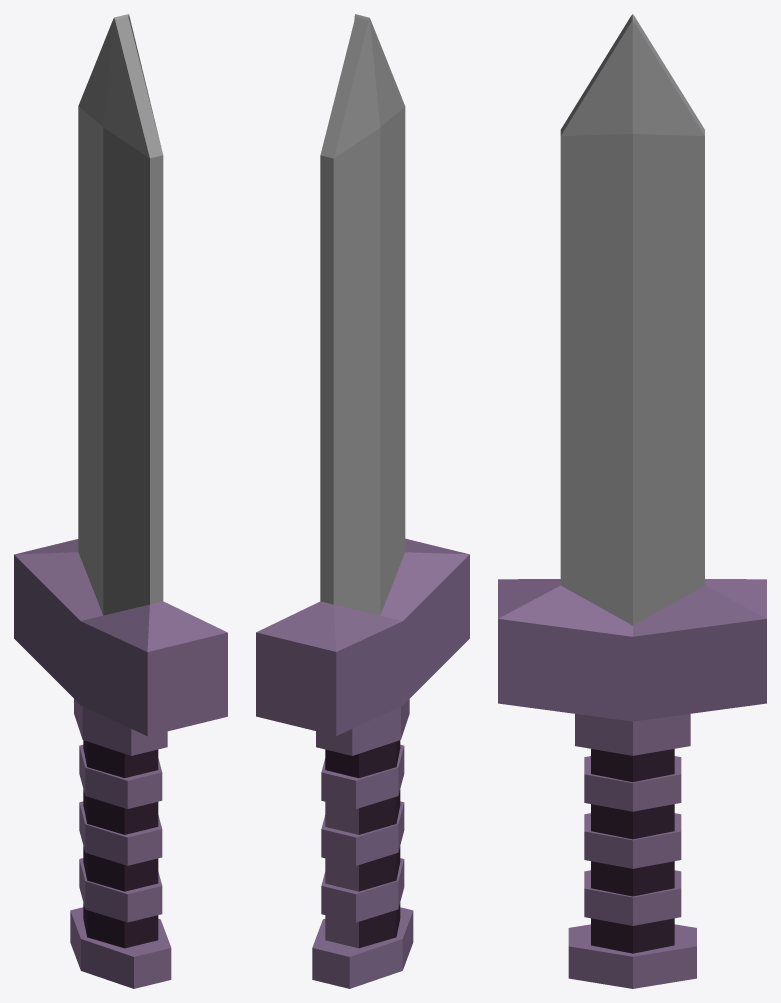
The model's file is PurpleSword.glb.
3 views of the same model, side by side, from view 1: azimuth 30°, elevation 25°; view 2: azimuth 150°, elevation 25°; view 3: azimuth 270°, elevation 25° (orthographic).
Visible parts, largest first — view 1: Cube.002, Cube.001, Cube.003, Cube; view 2: Cube.002, Cube.001, Cube, Cube.003; view 3: Cube.002, Cube.001, Cube.003, Cube.
Part boxes in pixels (x1,y1,x2,y2): Cube.002: (78, 14, 163, 615); Cube.001: (14, 539, 227, 988); Cube.003: (83, 740, 158, 948); Cube: (79, 746, 162, 922); Cube.002: (320, 14, 405, 615); Cube.001: (256, 538, 469, 988); Cube: (321, 746, 404, 922); Cube.003: (325, 740, 400, 948); Cube.002: (560, 14, 704, 625); Cube.001: (498, 579, 766, 988); Cube.003: (591, 749, 674, 953); Cube: (584, 774, 681, 925).
Size of the model in its own units: 2 by 22.47 by 5.75.
